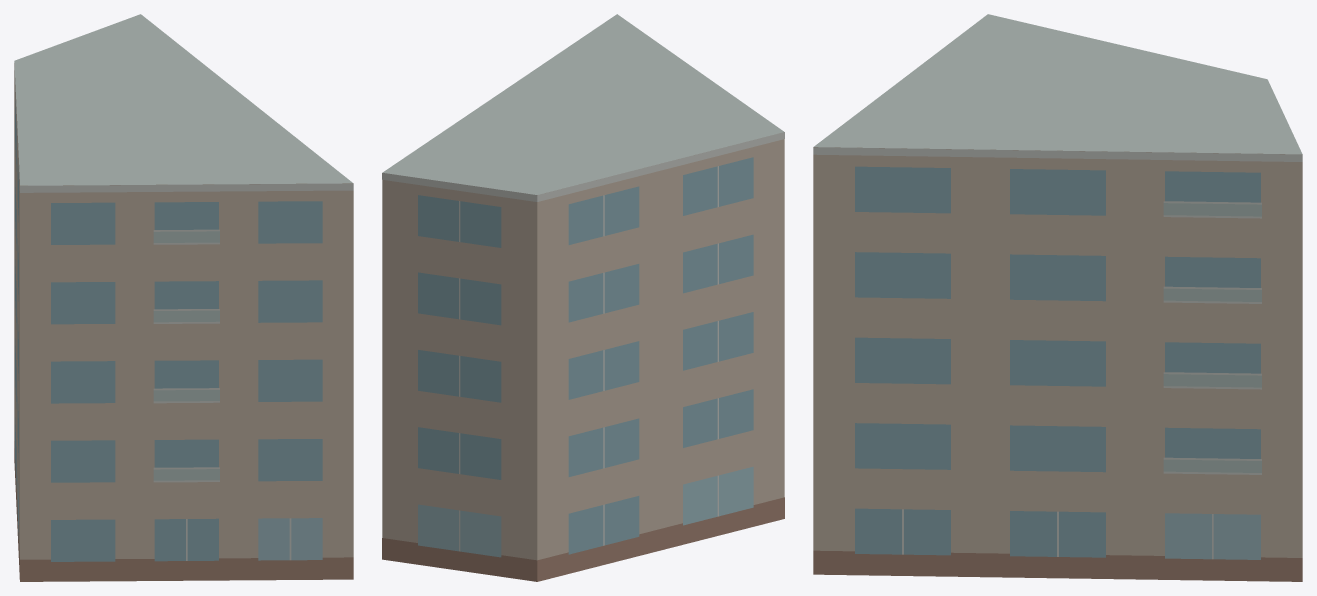
The model's file is survey-upis-32632195.glb.
The picture shows the model from 3 angles, left to right: view 1: azimuth 30°, elevation 25°; view 2: azimuth 150°, elevation 25°; view 3: azimuth 270°, elevation 25°; orthographic projection. The views are drawn at different scales.
Visible parts, largest first — view 1: survey-upis-32632195.tmp; view 2: survey-upis-32632195.tmp; view 3: survey-upis-32632195.tmp.
Part boxes in pixels (bbox=[...]): survey-upis-32632195.tmp: bbox=[14, 14, 353, 581]; survey-upis-32632195.tmp: bbox=[382, 14, 784, 581]; survey-upis-32632195.tmp: bbox=[813, 14, 1302, 581].
Bounding box in the file's own units: 9.52 × 13.5 × 14.02.
